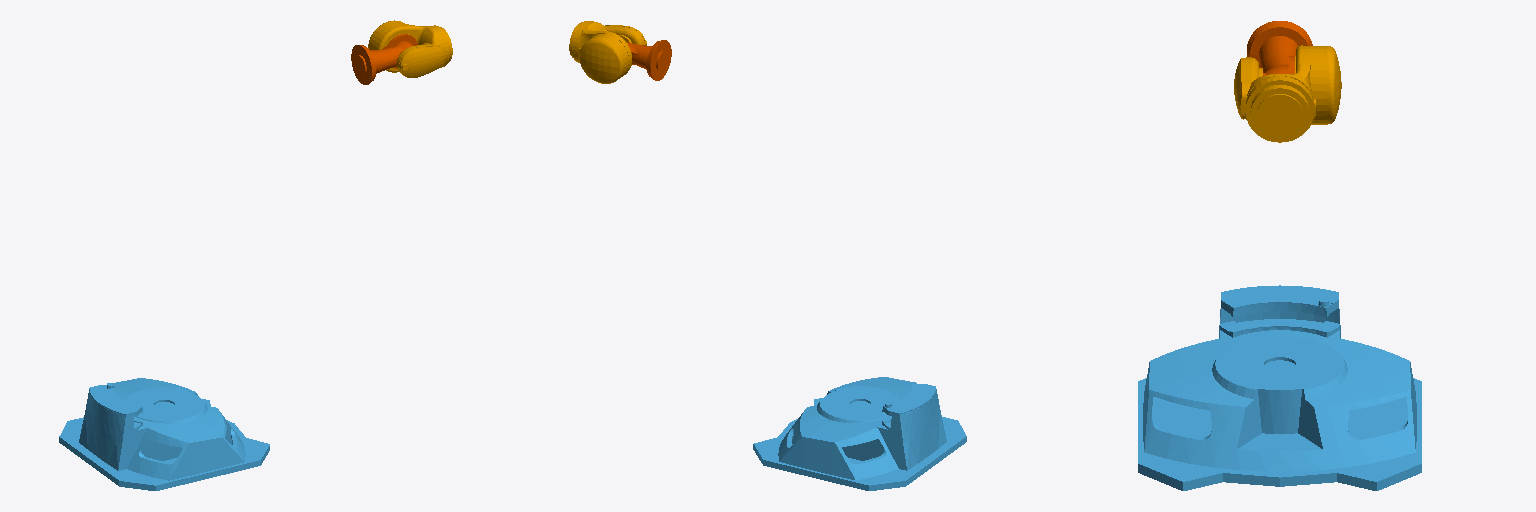
--- Render facts (derived) ---
3 views of the same robot in one strip: view 1: azimuth 30°, elevation 25°; view 2: azimuth 150°, elevation 25°; view 3: azimuth 270°, elevation 25° (orthographic).
Model robot_model with 20 links and 19 joints (18 continuous, 1 fixed), rooted at base_link, posed all joints at 0.
Links seen in each view (by area): view 1: link_0_x, link_5_x, link_4_x; view 2: link_0_x, link_5_x, link_4_x; view 3: link_0_x, link_5_x, link_4_x.
Boxes of the visible links, box(x1,y1,x2,y2) form: link_0_x: box(59, 378, 269, 490); link_5_x: box(368, 20, 452, 77); link_4_x: box(351, 34, 417, 84); link_0_x: box(753, 377, 966, 490); link_5_x: box(569, 21, 646, 83); link_4_x: box(626, 40, 671, 80); link_0_x: box(1138, 285, 1421, 490); link_5_x: box(1234, 45, 1341, 142); link_4_x: box(1247, 21, 1312, 75).
Bounding box of the posed robot: 1.99 × 0.856 × 1.91 m (x, y, z).
3 mesh visuals loaded from 7 distinct referenced files (3 OBJ); not drawn: 4 (reference not matched to a file when rendering).

robot.urdf — robot_model:
<?xml version="1.0"?>
<!--
	This is the description file of the milling robot in gazebo.
    This file is automatically generated by gazebo.
-->

<robot name="robot_model">
    <link name="base_link">
        <visual>
            <origin xyz="0.000 0.000 0.000" rpy=" 0.0000 0.000 0.000" />
            <geometry>
                <cylinder length="0.01" radius="0.2" />
            </geometry>
        </visual>
    </link>
    <joint name="joint_0" type="fixed">
        <!-- <movement type="weld" rigidity = "flexible"/> -->
        <parent link="base_link" />
        <child link="link_0_x" />
        <origin rpy="0 0 0" xyz="0 0 0" />
        <!-- <T_Parent_Joint xyz = "0.0000 0.0000 0.0000" rpy = "0.0000 0.0000 0.0000"/>
		<T_Child_Joint xyz = "0.0000 0.0000 0.0000" rpy = "0.0000 0.0000 0.0000"/> -->
    </joint>
    <!-- =================================================================================== -->
    <!-- | Link 0 and joint 1 | -->
    <!-- =================================================================================== -->
    <link name="link_0_x">
        <visual name="mesh_0_x">
            <origin xyz="0.000 0.000 0.000" rpy=" 0.0000 0.000 0.000" />
            <geometry>
                <mesh filename="package://robot_model/mesh/L0.obj" scale="1 1 1" />
            </geometry>
            <material name="l0_mtr">
                <texture filename="package://robot_model/mesh/texture/L0.png" />
            </material>
        </visual>
    </link>
    <joint name="joint_1_x" type="continuous">
        <!-- <movement type = "rotational" rigidity = "flexible"/> -->
        <parent link="link_0_x" />
        <child link="link_0_y" />
        <origin xyz="0.0000 0.0000 0.2500" rpy="0.0000 0.0000 0.0000" />
        <axis xyz="1 0 0" />
    </joint>
    <link name="link_0_y">
        <!-- dummy link does not need any attr. -->
        <!-- <visual name = "mesh_0_y">
			<origin xyz = "0.000 0.000 0.000" rpy = " 0.0000 0.000 0.000"/>
		</visual>  -->
        <visual>
            <origin xyz="0.000 0.000 0.000" rpy=" 0.0000 0.000 0.000" />
            <geometry>
                <cylinder length="0" radius="0" />
            </geometry>
        </visual>
    </link>
    <joint name="joint_1_y" type="continuous">
        <!-- <movement type = "rotational" rigidity = "flexible"/> -->
        <parent link="link_0_y" />
        <child link="link_0_z" />
        <origin xyz="0.0000 0.0000 0.0000" rpy="0.0000 0.0000 0.0000" />
        <axis xyz="0 1 0" />
    </joint>
    <link name="link_0_z">
        <!-- dummy link does not need any attr. -->
        <!-- <visual name = "mesh_0_z">
			<origin xyz = "0.000 0.000 0.000" rpy = " 0.0000 0.000 0.000"/>
		</visual>  -->
    </link>
    <joint name="joint_1_z" type="continuous">
        <!-- <movement type = "rotational" rigidity = "flexible"/> -->
        <parent link="link_0_z" />
        <child link="link_1_x" />
        <origin xyz="0.0000 0.0000 0.0000" rpy="0.0000 0.0000 0.0000" />
        <axis xyz="0 0 1" />
    </joint>
    <!-- =================================================================================== -->
    <!-- | Link 1 and joint 2 | -->
    <!-- =================================================================================== -->
    <link name="link_1_x">

        <inertial>
            <mass value="110.000" xyz=" 0.002646 0.018740 0.188026" />
            <inertia ixx="3.236370867" ixy="0.644464939" ixz="0.468238095" iyy="6.714710678" iyz="0.257842574" izz="5.649849463" />
        </inertial>

        <visual name="mesh_1_x">
            <origin xyz="0.000 0.000 0.000" rpy=" 0.0000 0.000 0.000" />
            <geometry>
                <mesh filename="package://robot_model/mesh/L1.obj" scale="1 1 1" />
            </geometry>
            <material name="l1_mtr">
                <texture filename="package://robot_model/mesh/texture/L1.png" />
            </material>
        </visual>
    </link>
    <joint name="joint_2_x" type="continuous">
        <!-- <movement type = "rotational" rigidity = "flexible"/> -->
        <parent link="link_1_x" />
        <child link="link_1_y" />
        <origin xyz="0.3500 0.0000 0.4250" rpy="0.0000 -1.5708 1.5708" />
        <axis xyz="1 0 0" />
    </joint>
    <link name="link_1_y">
        <!-- dummy link does not need any attr. -->
        <!-- <visual name = "mesh_1_y">
			<origin xyz = "0.000 0.000 0.000" rpy = " 0.0000 0.000 0.000"/>
		</visual>  -->
    </link>
    <joint name="joint_2_y" type="continuous">
        <!-- <movement type = "rotational" rigidity = "flexible"/> -->
        <parent link="link_1_y" />
        <child link="link_1_z" />
        <origin xyz="0.0000 0.0000 0.0000" rpy="0.0000 0.0000 0.0000" />
        <axis xyz="0 1 0" />
    </joint>
    <link name="link_1_z">
        <!-- dummy link does not need any attr. -->
        <!-- <visual name = "mesh_1_z">
			<origin xyz = "0.000 0.000 0.000" rpy = " 0.0000 0.000 0.000"/>
		</visual>  -->
    </link>
    <joint name="joint_2_z" type="continuous">
        <!-- <movement type = "rotational" rigidity = "flexible"/> -->
        <parent link="link_1_z" />
        <child link="link_2_x" />
        <origin xyz="0.0000 0.0000 0.0000" rpy="0.0000 0.0000 0.0000" />
        <axis xyz="0 0 1" />
    </joint>
    <!-- =================================================================================== -->
    <!-- | Link 2 and joint 3 | -->
    <!-- =================================================================================== -->
    <link name="link_2_x">

        <inertial>
            <mass value="239.748" xyz=" 0.427436 0.002950  0.236273" />
            <inertia ixx="4.30639745" ixy="0.165463221" ixz="4.341148242" iyy="40.01608253" iyz="0.022575289" izz="39.50583604" />
        </inertial>

        <visual name="mesh_2_x">
            <origin xyz="0.000 0.000 0.000" rpy=" 0.0000 0.000 0.000" />
            <geometry>
                <!-- <mesh filename = "L2.obj" scale = "1.0"/> -->
                <mesh filename="package://robot_model/mesh/L2.obj" />
            </geometry>
            <material name="l2_mtr">
                <texture filename="package://robot_model/mesh/texture/L2.png" />
            </material>
        </visual>
    </link>
    <joint name="joint_3_x" type="continuous">
        <!-- <movement type = "rotational" rigidity = "flexible"/> -->
        <parent link="link_2_x" />
        <child link="link_2_y" />
        <origin xyz="1.1500 0.0000 0.0000" rpy="0.0000 0.0000 -3.14159" />
        <axis xyz="1 0 0" />
    </joint>
    <link name="link_2_y">
        <!-- dummy link does not need any attr. -->
        <!-- <visual name = "mesh_2_y">
			<origin xyz = "0.000 0.000 0.000" rpy = " 0.0000 0.000 0.000"/>
		</visual>  -->
    </link>
    <joint name="joint_3_y" type="continuous">
        <!-- <movement type = "rotational" rigidity = "flexible"/> -->
        <parent link="link_2_y" />
        <child link="link_2_z" />
        <origin xyz="0.0000 0.0000 0.0000" rpy="0.0000 0.0000 0.0000" />
        <axis xyz="0 1 0" />
    </joint>
    <link name="link_2_z">
        <!-- dummy link does not need any attr. -->
        <!-- <visual name = "mesh_2_z">
			<origin xyz = "0.000 0.000 0.000" rpy = " 0.0000 0.000 0.000"/>
		</visual>  -->
    </link>
    <joint name="joint_3_z" type="continuous">
        <!-- <movement type = "rotational" rigidity = "flexible"/> -->
        <parent link="link_2_z" />
        <child link="link_3_x" />
        <origin xyz="0.0000 0.0000 0.0000" rpy="0.0000 0.0000 0.0000" />
        <axis xyz="0 0 1" />
    </joint>
    <!-- =================================================================================== -->
    <!-- | Link 3 and joint 4 | -->
    <!-- =================================================================================== -->
    <link name="link_3_x">

        <inertial>
            <mass value="164.006" xyz=" 0.023521 0.157165  0.000000" />
            <inertia ixx="16.43037097" ixy="0.336896677" ixz="0.018073572" iyy="2.381578838" iyz="0.191901642" izz="16.17115993" />
        </inertial>

        <visual name="mesh_3_z">
            <origin xyz="0.000 0.000 0.000" rpy=" 0.0000 0.000 0.000" />
            <geometry>
                <!-- <mesh filename = "L3.obj" scale = "1.0"/> -->
                <mesh filename="package://robot_model/mesh/L3.obj" />
            </geometry>
            <material name="l3_mtr">
                <texture filename="package://robot_model/mesh/texture/L3.png" />
            </material>
        </visual>
    </link>
    <joint name="joint_4_x" type="continuous">
        <!-- <movement type = "rotational" rigidity = "flexible"/> -->
        <parent link="link_3_x" />
        <child link="link_3_y" />
        <origin xyz="0.0410 0.7545 0.0000" rpy="-1.5708 0.0000 0.0000" />
        <axis xyz="1 0 0" />
    </joint>
    <link name="link_3_y">
        <!-- dummy link does not need any attr. -->
        <!-- <visual name = "mesh_3_y">
			<origin xyz = "0.000 0.000 0.000" rpy = " 0.0000 0.000 0.000"/>
		</visual>  -->
    </link>
    <joint name="joint_4_y" type="continuous">
        <!-- <movement type = "rotational" rigidity = "flexible"/> -->
        <parent link="link_3_y" />
        <child link="link_3_z" />
        <origin xyz="0.0000 0.0000 0.0000" rpy="0.0000 0.0000 0.0000" />
        <axis xyz="0 1 0" />
    </joint>
    <link name="link_3_z">
        <!-- dummy link does not need any attr. -->
        <!-- <visual name = "mesh_3_z">
			<origin xyz = "0.000 0.000 0.000" rpy = " 0.0000 0.000 0.000"/>
		</visual>  -->
    </link>
    <joint name="joint_4_z" type="continuous">
        <!-- <movement type = "rotational" rigidity = "flexible"/> -->
        <parent link="link_3_z" />
        <child link="link_4_x" />
        <origin xyz="0.0000 0.0000 0.0000" rpy="0.0000 0.0000 0.0000" />
        <axis xyz="0 0 1" />
    </joint>
    <!-- =================================================================================== -->
    <!-- | Link 4 and joint 5 | -->
    <!-- =================================================================================== -->
    <link name="link_4_x">

        <inertial>
            <mass value=" 39.746" xyz=" 0.000000 0.001354 0.223432" />
            <inertia ixx="0.419700279" ixy="0" ixz="0" iyy="0.425200882" iyz="0.009137089" izz="0.097243405" />
        </inertial>

        <visual name="mesh_4_x">
            <origin xyz="0.000 0.000 0.000" rpy=" 0.0000 0.000 0.000" />
            <geometry>
                <!-- <mesh filename = "L4.obj" scale = "1.0"/> -->
                <mesh filename="package://robot_model/mesh/L4.obj" />
            </geometry>
            <material name="l4_mtr">
                <texture filename="package://robot_model/mesh/texture/L4.png" />
            </material>
        </visual>
    </link>
    <joint name="joint_5_x" type="continuous">
        <!-- <movement type = "rotational" rigidity = "flexible"/> -->
        <parent link="link_4_x" />
        <child link="link_4_y" />
        <origin xyz="0.0000 0.0000 0.245500" rpy="1.5708 0.0000 0.0000" />
        <axis xyz="1 0 0" />
    </joint>
    <link name="link_4_y">
        <!-- dummy link does not need any attr. -->
        <!-- <visual name = "mesh_4_y">
			<origin xyz = "0.000 0.000 0.000" rpy = " 0.0000 0.000 0.000"/>
		</visual>  -->
    </link>
    <joint name="joint_5_y" type="continuous">
        <!-- <movement type = "rotational" rigidity = "flexible"/> -->
        <parent link="link_4_y" />
        <child link="link_4_z" />
        <origin xyz="0.0000 0.0000 0.0000" rpy="0.0000 0.0000 0.0000" />
        <axis xyz="0 1 0" />
    </joint>
    <link name="link_4_z">
        <!-- dummy link does not need any attr. -->
        <!-- <visual name = "mesh_4_z">
			<origin xyz = "0.000 0.000 0.000" rpy = " 0.0000 0.000 0.000"/>
		</visual>  -->
    </link>
    <joint name="joint_5_z" type="continuous">
        <!-- <movement type = "rotational" rigidity = "flexible"/> -->
        <parent link="link_4_z" />
        <child link="link_5_x" />
        <origin xyz="0.0000 0.0000 0.0000" rpy="0.0000 0.0000 0.0000" />
        <axis xyz="0 0 1" />
    </joint>
    <!-- =================================================================================== -->
    <!-- | Link 5 and joint 6 | -->
    <!-- =================================================================================== -->
    <link name="link_5_x">

        <inertial>
            <mass value=" 28.510" xyz=" 0.000000 0.054123 -0.037621" />
            <inertia ixx="0.436341228" ixy="0.000008171" ixz="0.000000068" iyy="0.296286531" iyz="0.06785905" izz="0.294686677" />
        </inertial>

        <visual name="mesh_5_x">
            <origin xyz="0.000 0.000 0.000" rpy=" 0.0000 0.000 0.000" />
            <geometry>
                <!-- <mesh filename = "L5.obj" scale = "1.0"/> -->
                <mesh filename="package://robot_model/mesh/L5.obj" />
            </geometry>
            <material name="l5_mtr">
                <texture filename="package://robot_model/mesh/texture/L5.png" />
            </material>
        </visual>
    </link>
    <joint name="joint_6_x" type="continuous">
        <!-- <movement type = "rotational" rigidity = "flexible"/> -->
        <parent link="link_5_x" />
        <child link="link_5_y" />
        <origin xyz="0.0000 0.2400 0.0000" rpy="-1.5708 0.0000 0.0000" />
        <axis xyz="1 0 0" />
    </joint>
    <link name="link_5_y">
        <!-- dummy link does not need any attr. -->
        <!-- <visual name = "mesh_5_y">
			<origin xyz = "0.000 0.000 0.000" rpy = " 0.0000 0.000 0.000"/>
		</visual>  -->
    </link>
    <joint name="joint_6_y" type="continuous">
        <!-- <movement type = "rotational" rigidity = "flexible"/> -->
        <parent link="link_5_y" />
        <child link="link_5_z" />
        <origin xyz="0.0000 0.0000 0.0000" rpy="0.0000 0.0000 0.0000" />
        <axis xyz="0 1 0" />
    </joint>
    <link name="link_5_z">
        <!-- dummy link does not need any attr. -->
        <!-- <visual name = "mesh_5_z">
			<origin xyz = "0.000 0.000 0.000" rpy = " 0.0000 0.000 0.000"/>
		</visual>  -->
    </link>
    <joint name="joint_6_z" type="continuous">
        <!-- <movement type = "rotational" rigidity = "flexible"/> -->
        <parent link="link_5_z" />
        <child link="link_6_x" />
        <origin xyz="0.0000 0.0000 0.0000" rpy="0.0000 0.0000 0.0000" />
        <axis xyz="0 0 1" />
    </joint>
    <!-- =================================================================================== -->
    <!-- | Link 6 | -->
    <!-- =================================================================================== -->
    <link name="link_6_x">

        <inertial>
            <mass value=" 78.622" xyz="-0.065895 0.000000  0.122766" />
            <inertia ixx="0.766497" ixy="0" ixz="0.01855" iyy="1.401573" iyz="0" izz="1.295152" />
        </inertial>

        <visual name="mesh_6">
            <origin xyz="0.000 0.000 0.000" rpy=" 0.0000 0.000 0.000" />
            <geometry>
                <!-- <mesh filename = "L6Spindle.obj" scale = "1.0"/> -->
                <mesh filename="package://robot_model/mesh/L6Spindle.obj" />
            </geometry>
            <material name="l6_mtr">
                <texture filename="package://robot_model/mesh/texture/L6Spindle.png" />
            </material>
        </visual>
    </link>
    <!-- <cosy name = "TCP">
		<parent link="link_6"/>
		<T_parent_cosy xyz = "0.1705 0.0000 0.1165" rpy = "0.0000 -1.5708 0.0000"/>
	</cosy> -->

    <transmission name="trans_joint_1_x">
        <type>transmission_interface/SimpleTransmission</type>
        <joint name="joint_1_x">
            <hardwareInterface>hardware_interface/EffortJointInterface</hardwareInterface>
        </joint>
        <actuator name="joint_1_x_motor">
            <hardwareInterface>hardware_interface/EffortJointInterface</hardwareInterface>
            <mechanicalReduction>1</mechanicalReduction>
        </actuator>
    </transmission>
    <transmission name="trans_joint_1_y">
        <type>transmission_interface/SimpleTransmission</type>
        <joint name="joint_1_y">
            <hardwareInterface>hardware_interface/EffortJointInterface</hardwareInterface>
        </joint>
        <actuator name="joint_1_y_motor">
            <hardwareInterface>hardware_interface/EffortJointInterface</hardwareInterface>
            <mechanicalReduction>1</mechanicalReduction>
        </actuator>
    </transmission>
    <transmission name="trans_joint_1_z">
        <type>transmission_interface/SimpleTransmission</type>
        <joint name="joint_1_z">
            <hardwareInterface>hardware_interface/EffortJointInterface</hardwareInterface>
        </joint>
        <actuator name="joint_1_z_motor">
            <hardwareInterface>hardware_interface/EffortJointInterface</hardwareInterface>
            <mechanicalReduction>1</mechanicalReduction>
        </actuator>
    </transmission>
    <transmission name="trans_joint_2_x">
        <type>transmission_interface/SimpleTransmission</type>
        <joint name="joint_2_x">
            <hardwareInterface>hardware_interface/EffortJointInterface</hardwareInterface>
        </joint>
        <actuator name="joint_2_x_motor">
            <hardwareInterface>hardware_interface/EffortJointInterface</hardwareInterface>
            <mechanicalReduction>1</mechanicalReduction>
        </actuator>
    </transmission>
    <transmission name="trans_joint_2_y">
        <type>transmission_interface/SimpleTransmission</type>
        <joint name="joint_2_y">
            <hardwareInterface>hardware_interface/EffortJointInterface</hardwareInterface>
        </joint>
        <actuator name="joint_2_y_motor">
            <hardwareInterface>hardware_interface/EffortJointInterface</hardwareInterface>
            <mechanicalReduction>1</mechanicalReduction>
        </actuator>
    </transmission>
    <transmission name="trans_joint_2_z">
        <type>transmission_interface/SimpleTransmission</type>
        <joint name="joint_2_z">
            <hardwareInterface>hardware_interface/EffortJointInterface</hardwareInterface>
        </joint>
        <actuator name="joint_2_z_motor">
            <hardwareInterface>hardware_interface/EffortJointInterface</hardwareInterface>
            <mechanicalReduction>1</mechanicalReduction>
        </actuator>
    </transmission>
    <transmission name="trans_joint_3_x">
        <type>transmission_interface/SimpleTransmission</type>
        <joint name="joint_3_x">
            <hardwareInterface>hardware_interface/EffortJointInterface</hardwareInterface>
        </joint>
        <actuator name="joint_3_x_motor">
            <hardwareInterface>hardware_interface/EffortJointInterface</hardwareInterface>
            <mechanicalReduction>1</mechanicalReduction>
        </actuator>
    </transmission>
    <transmission name="trans_joint_3_y">
        <type>transmission_interface/SimpleTransmission</type>
        <joint name="joint_3_y">
            <hardwareInterface>hardware_interface/EffortJointInterface</hardwareInterface>
        </joint>
        <actuator name="joint_3_y_motor">
            <hardwareInterface>hardware_interface/EffortJointInterface</hardwareInterface>
            <mechanicalReduction>1</mechanicalReduction>
        </actuator>
    </transmission>
    <transmission name="trans_joint_3_z">
        <type>transmission_interface/SimpleTransmission</type>
        <joint name="joint_3_z">
            <hardwareInterface>hardware_interface/EffortJointInterface</hardwareInterface>
        </joint>
        <actuator name="joint_3_z_motor">
            <hardwareInterface>hardware_interface/EffortJointInterface</hardwareInterface>
            <mechanicalReduction>1</mechanicalReduction>
        </actuator>
    </transmission>
    <transmission name="trans_joint_4_x">
        <type>transmission_interface/SimpleTransmission</type>
        <joint name="joint_4_x">
            <hardwareInterface>hardware_interface/EffortJointInterface</hardwareInterface>
        </joint>
        <actuator name="joint_4_x_motor">
            <hardwareInterface>hardware_interface/EffortJointInterface</hardwareInterface>
            <mechanicalReduction>1</mechanicalReduction>
        </actuator>
    </transmission>
    <transmission name="trans_joint_4_y">
        <type>transmission_interface/SimpleTransmission</type>
        <joint name="joint_4_y">
            <hardwareInterface>hardware_interface/EffortJointInterface</hardwareInterface>
        </joint>
        <actuator name="joint_4_y_motor">
            <hardwareInterface>hardware_interface/EffortJointInterface</hardwareInterface>
            <mechanicalReduction>1</mechanicalReduction>
        </actuator>
    </transmission>
    <transmission name="trans_joint_4_z">
        <type>transmission_interface/SimpleTransmission</type>
        <joint name="joint_4_z">
            <hardwareInterface>hardware_interface/EffortJointInterface</hardwareInterface>
        </joint>
        <actuator name="joint_4_z_motor">
            <hardwareInterface>hardware_interface/EffortJointInterface</hardwareInterface>
            <mechanicalReduction>1</mechanicalReduction>
        </actuator>
    </transmission>
    <transmission name="trans_joint_5_x">
        <type>transmission_interface/SimpleTransmission</type>
        <joint name="joint_5_x">
            <hardwareInterface>hardware_interface/EffortJointInterface</hardwareInterface>
        </joint>
        <actuator name="joint_5_x_motor">
            <hardwareInterface>hardware_interface/EffortJointInterface</hardwareInterface>
            <mechanicalReduction>1</mechanicalReduction>
        </actuator>
    </transmission>
    <transmission name="trans_joint_5_y">
        <type>transmission_interface/SimpleTransmission</type>
        <joint name="joint_5_y">
            <hardwareInterface>hardware_interface/EffortJointInterface</hardwareInterface>
        </joint>
        <actuator name="joint_5_y_motor">
            <hardwareInterface>hardware_interface/EffortJointInterface</hardwareInterface>
            <mechanicalReduction>1</mechanicalReduction>
        </actuator>
    </transmission>
    <transmission name="trans_joint_5_z">
        <type>transmission_interface/SimpleTransmission</type>
        <joint name="joint_5_z">
            <hardwareInterface>hardware_interface/EffortJointInterface</hardwareInterface>
        </joint>
        <actuator name="joint_5_z_motor">
            <hardwareInterface>hardware_interface/EffortJointInterface</hardwareInterface>
            <mechanicalReduction>1</mechanicalReduction>
        </actuator>
    </transmission>
    <transmission name="trans_joint_6_x">
        <type>transmission_interface/SimpleTransmission</type>
        <joint name="joint_6_x">
            <hardwareInterface>hardware_interface/EffortJointInterface</hardwareInterface>
        </joint>
        <actuator name="joint_6_x_motor">
            <hardwareInterface>hardware_interface/EffortJointInterface</hardwareInterface>
            <mechanicalReduction>1</mechanicalReduction>
        </actuator>
    </transmission>
    <transmission name="trans_joint_6_y">
        <type>transmission_interface/SimpleTransmission</type>
        <joint name="joint_6_y">
            <hardwareInterface>hardware_interface/EffortJointInterface</hardwareInterface>
        </joint>
        <actuator name="joint_6_y_motor">
            <hardwareInterface>hardware_interface/EffortJointInterface</hardwareInterface>
            <mechanicalReduction>1</mechanicalReduction>
        </actuator>
    </transmission>
    <transmission name="trans_joint_6_z">
        <type>transmission_interface/SimpleTransmission</type>
        <joint name="joint_6_z">
            <hardwareInterface>hardware_interface/EffortJointInterface</hardwareInterface>
        </joint>
        <actuator name="joint_6_z_motor">
            <hardwareInterface>hardware_interface/EffortJointInterface</hardwareInterface>
            <mechanicalReduction>1</mechanicalReduction>
        </actuator>
    </transmission>
    <gazebo>
        <plugin name="gazebo_ros_control" filename="libgazebo_ros_control.so">
            <robotNamespace>/</robotNamespace>
        </plugin>
    </gazebo>
</robot>
